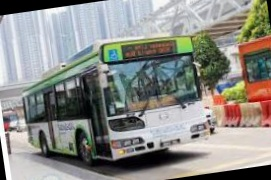bus: (14, 28, 212, 175), (234, 36, 271, 130)
